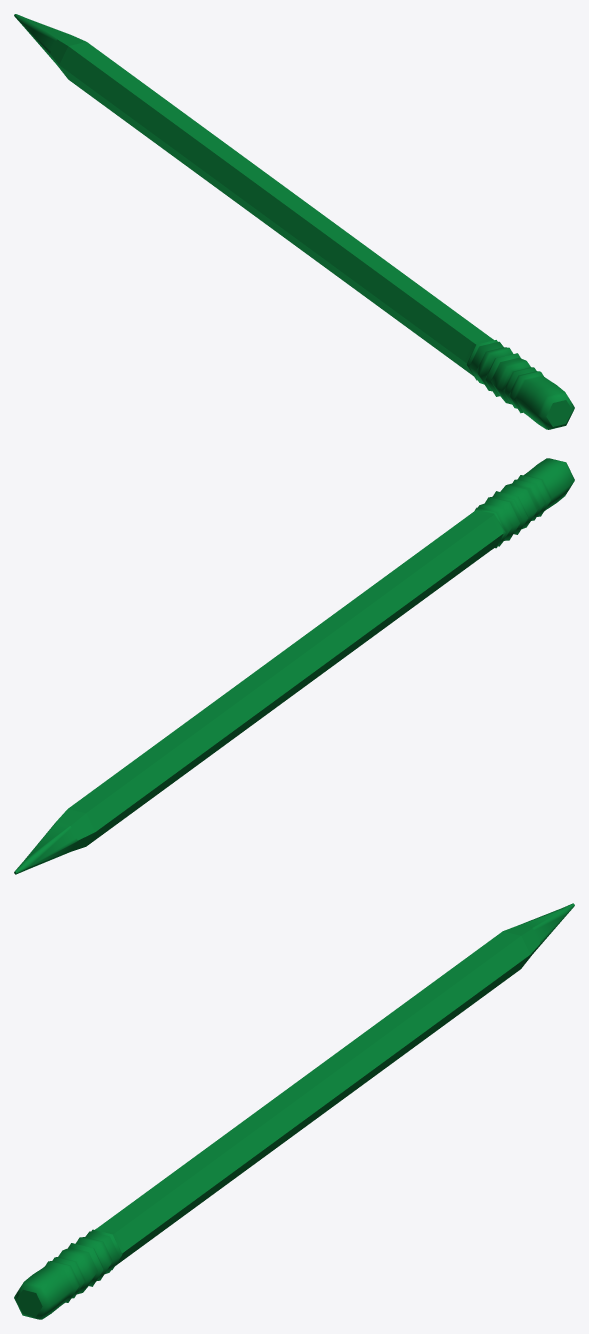
File: Pencil_OBJ.obj
3 renders of one model, top to bottom at view 1: azimuth 30°, elevation 25°; view 2: azimuth 150°, elevation 25°; view 3: azimuth 330°, elevation 25°, orthographic.
Parts seen in each view (by area): view 1: pencil_; view 2: pencil_; view 3: pencil_.
Boxes of the visible parts, x1,y1,x2,y2 form: pencil_: (14,14,574,429); pencil_: (14,458,574,874); pencil_: (14,903,574,1319).
Size of what is drawn, in the model's own units: 14.17 by 12.3 by 312.
